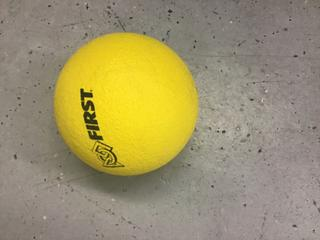power_cell: (51, 38, 199, 179)
